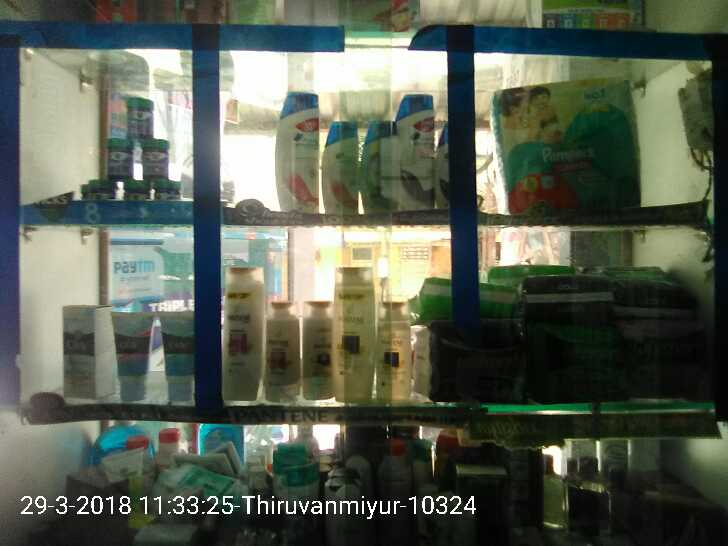vicks: (82, 89, 187, 201)
